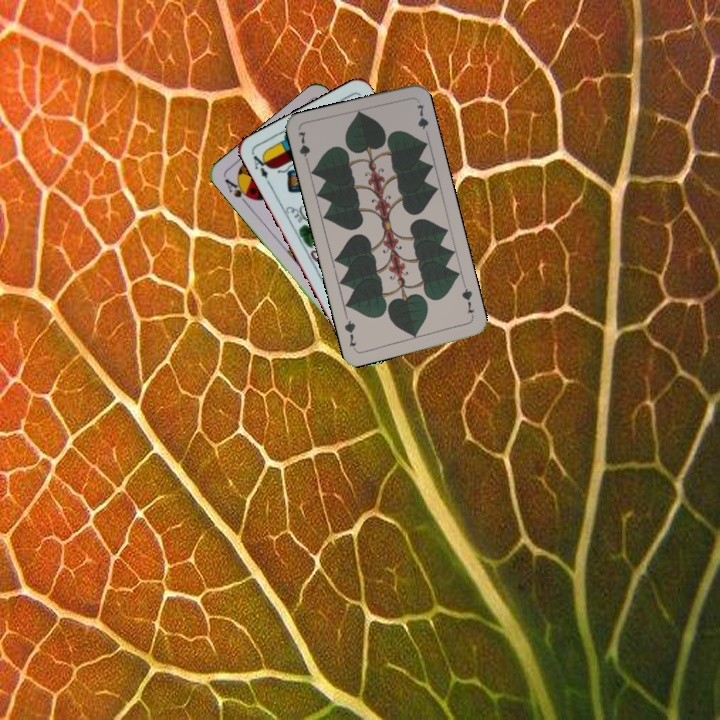EA: (248, 150, 273, 188)
G7: (294, 127, 313, 168), (458, 281, 477, 316)
SA: (220, 174, 256, 208)
